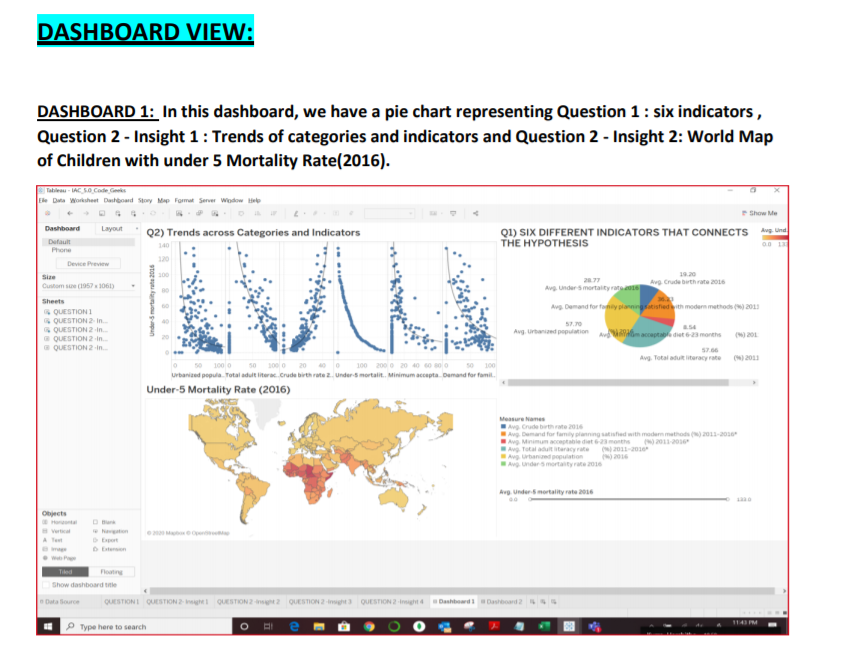

The dashboard page shown, as its layout file describes it:
{"tool":"tableau","page":{"name":"Dashboard 1","canvas":[1957,1061],"ordinal":0},"visuals":[{"type":"worksheet","title":"QUESTION 2- Insight 1","mark":"Circle","rows":["Under-5 mortality rate 2016"],"cols":["Urbanized population               (%) 2016","Total adult literacy rate          (%) 2011−2016*","Crude birth rate 2016","Under-5 mortality rank","Minimum acceptable diet 6-23 months           (%) 2011-2016*","Demand for family planning satisfied with modern methods (%)"],"box":[8,8,1061,522.5]},{"type":"worksheet","title":"QUESTION 1","mark":"Pie","box":[1069,8,784,629]},{"type":"legend","title":"QUESTION 2 -Insight 2","param":"[federated.0m27c9s1mfggq4197qtpr1soek6v].[avg:Under-5 mortality rate 2016:qk]","box":[1853,8,96,81]},{"type":"worksheet","title":"QUESTION 2 -Insight 2","mark":"Automatic","box":[8,530.5,1061,522.5]},{"type":"legend","title":"QUESTION 1","param":"[federated.0m27c9s1mfggq4197qtpr1soek6v].[:Measure Names]","box":[1069,637,784,244]},{"type":"filter","title":"QUESTION 2 -Insight 2","param":"[federated.0m27c9s1mfggq4197qtpr1soek6v].[avg:Under-5 mortality rate 2016:qk]","box":[1069,881,784,172]}]}

Visuals, with their boxes on the page's 1957x1061 design canvas (x1, y1, x2, y2). These are canvas units, not pixel positions in the 843x670 screenshot, which may show the page scaled, cropped or inside an application window:
"QUESTION 2- Insight 1" worksheet (Circle marks): Rect(8, 8, 1069, 530)
"QUESTION 1" worksheet (Pie marks): Rect(1069, 8, 1853, 637)
"QUESTION 2 -Insight 2" legend: Rect(1853, 8, 1949, 89)
"QUESTION 2 -Insight 2" worksheet: Rect(8, 530, 1069, 1053)
"QUESTION 1" legend: Rect(1069, 637, 1853, 881)
"QUESTION 2 -Insight 2" filter: Rect(1069, 881, 1853, 1053)
